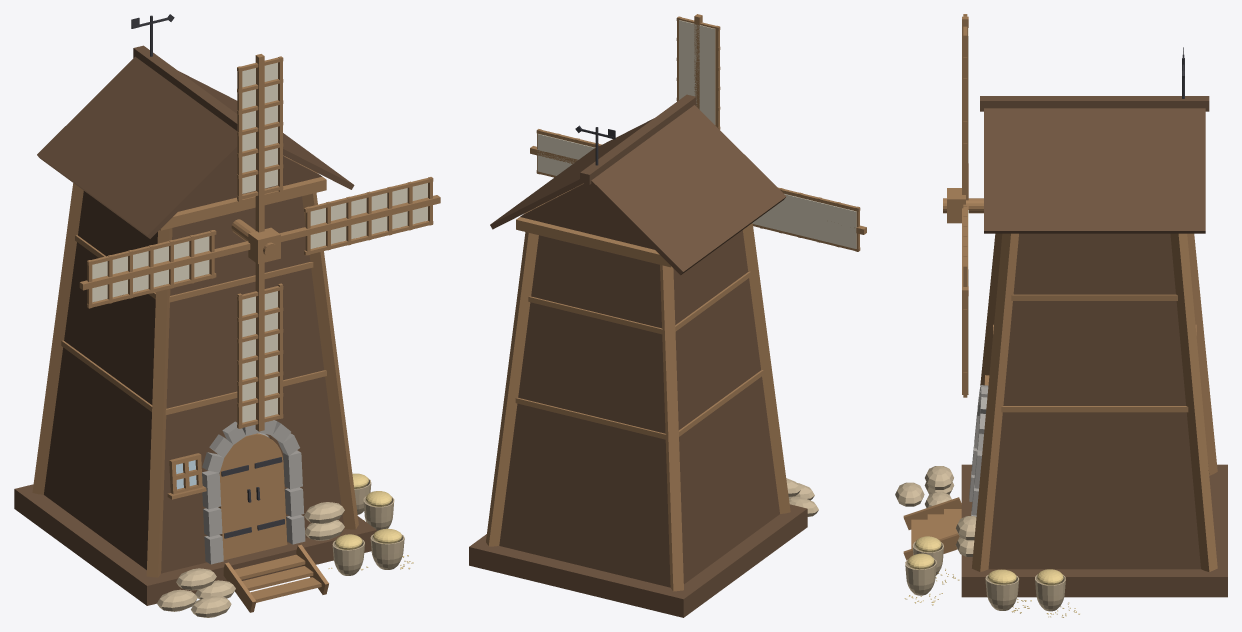
The model's file is bz_mill.glb.
3 views of the same model, side by side, from view 1: azimuth 30°, elevation 25°; view 2: azimuth 150°, elevation 25°; view 3: azimuth 270°, elevation 25° (orthographic). The views are drawn at different scales.
Visible parts, largest first — view 1: МлинСтіни, МлинРотор, Млин_Дах, МлинДекор, МлинФундамент, МлинДвері_2, МлинДвері_1, МлинГанок; view 2: МлинСтіни, Млин_Дах, МлинФундамент, МлинРотор, МлинДекор; view 3: МлинСтіни, Млин_Дах, МлинФундамент, МлинДекор, МлинРотор, МлинГанок.
Part boxes in pixels (<box>): МлинСтіни: <box>32,183,358,577</box>; МлинРотор: <box>79,54,440,431</box>; Млин_Дах: <box>37,14,354,238</box>; МлинДекор: <box>157,420,413,617</box>; МлинФундамент: <box>14,484,376,605</box>; МлинДвері_2: <box>250,433,287,552</box>; МлинДвері_1: <box>218,435,255,560</box>; МлинГанок: <box>223,544,328,612</box>; МлинСтіни: <box>486,223,790,591</box>; Млин_Дах: <box>490,94,786,275</box>; МлинФундамент: <box>469,504,807,617</box>; МлинРотор: <box>530,14,866,251</box>; МлинДекор: <box>786,478,818,516</box>; МлинСтіни: <box>972,233,1217,571</box>; Млин_Дах: <box>980,47,1209,233</box>; МлинФундамент: <box>961,464,1227,597</box>; МлинДекор: <box>895,375,1079,617</box>; МлинРотор: <box>943,14,983,397</box>; МлинГанок: <box>903,497,961,560</box>.
Bounding box in the file's own units: 8.4 × 11.84 × 6.75.
